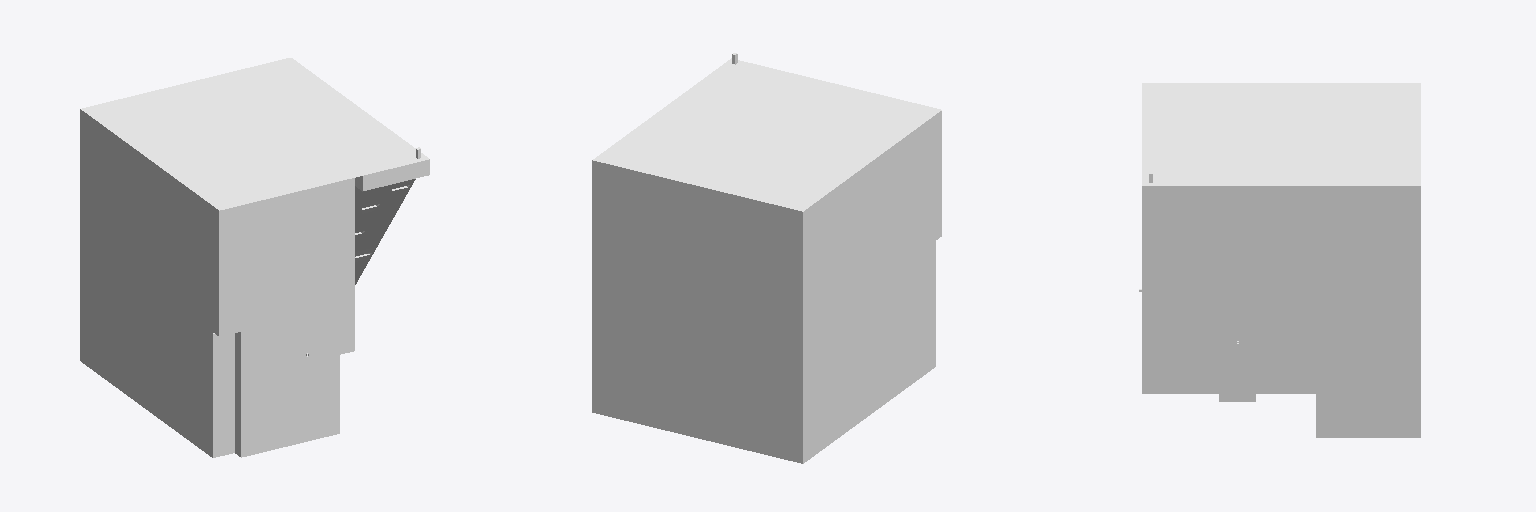
File: Vanish Cap Area 1.obj
The picture shows the model from 3 angles: view 1: azimuth 30°, elevation 25°; view 2: azimuth 150°, elevation 25°; view 3: azimuth 270°, elevation 25°; orthographic projection.
Size of the model in its own units: 22936 by 27196 by 26470.